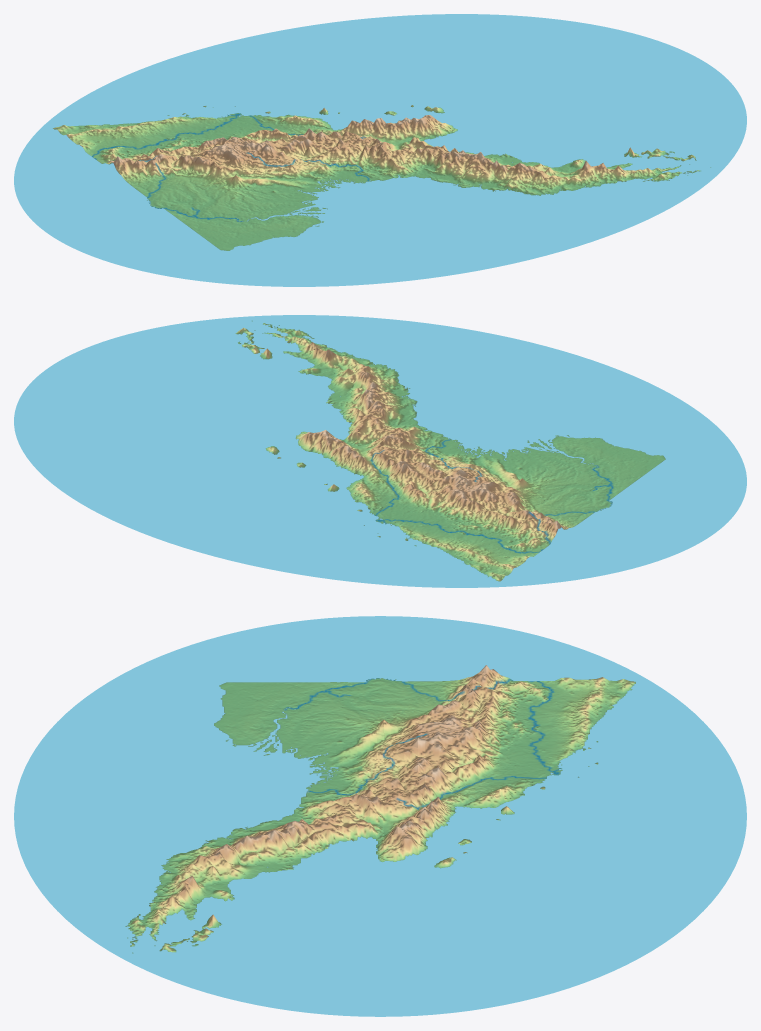
The model's file is PNG-terrain.glb.
The picture shows the model from 3 angles, top to bottom: view 1: azimuth 30°, elevation 25°; view 2: azimuth 150°, elevation 25°; view 3: azimuth 270°, elevation 25°; orthographic projection. The views are drawn at different scales.
Visible parts, largest first — view 1: Relevo com hidrografia; view 2: Relevo com hidrografia; view 3: Relevo com hidrografia.
Part boxes in pixels (box(x1,y1,x2,y2)): Relevo com hidrografia: box(14, 14, 746, 286); Relevo com hidrografia: box(14, 315, 746, 587); Relevo com hidrografia: box(14, 616, 746, 1016).
Size of the model in its own units: 2.34 by 0.0557 by 1.81.
2 materials, 1 textured.
